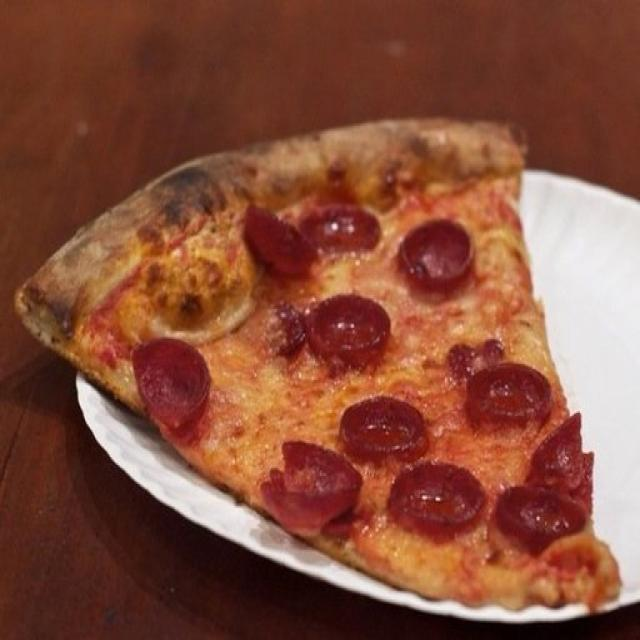Pepperoni: (262, 443, 363, 532), (389, 462, 485, 541), (132, 339, 211, 429), (530, 412, 595, 515), (308, 295, 390, 367), (340, 396, 428, 462), (466, 364, 551, 429), (495, 488, 587, 544), (400, 219, 472, 290), (245, 205, 316, 274), (298, 211, 384, 250), (450, 341, 501, 380), (278, 302, 309, 356)
Pizza: (16, 120, 620, 607)
